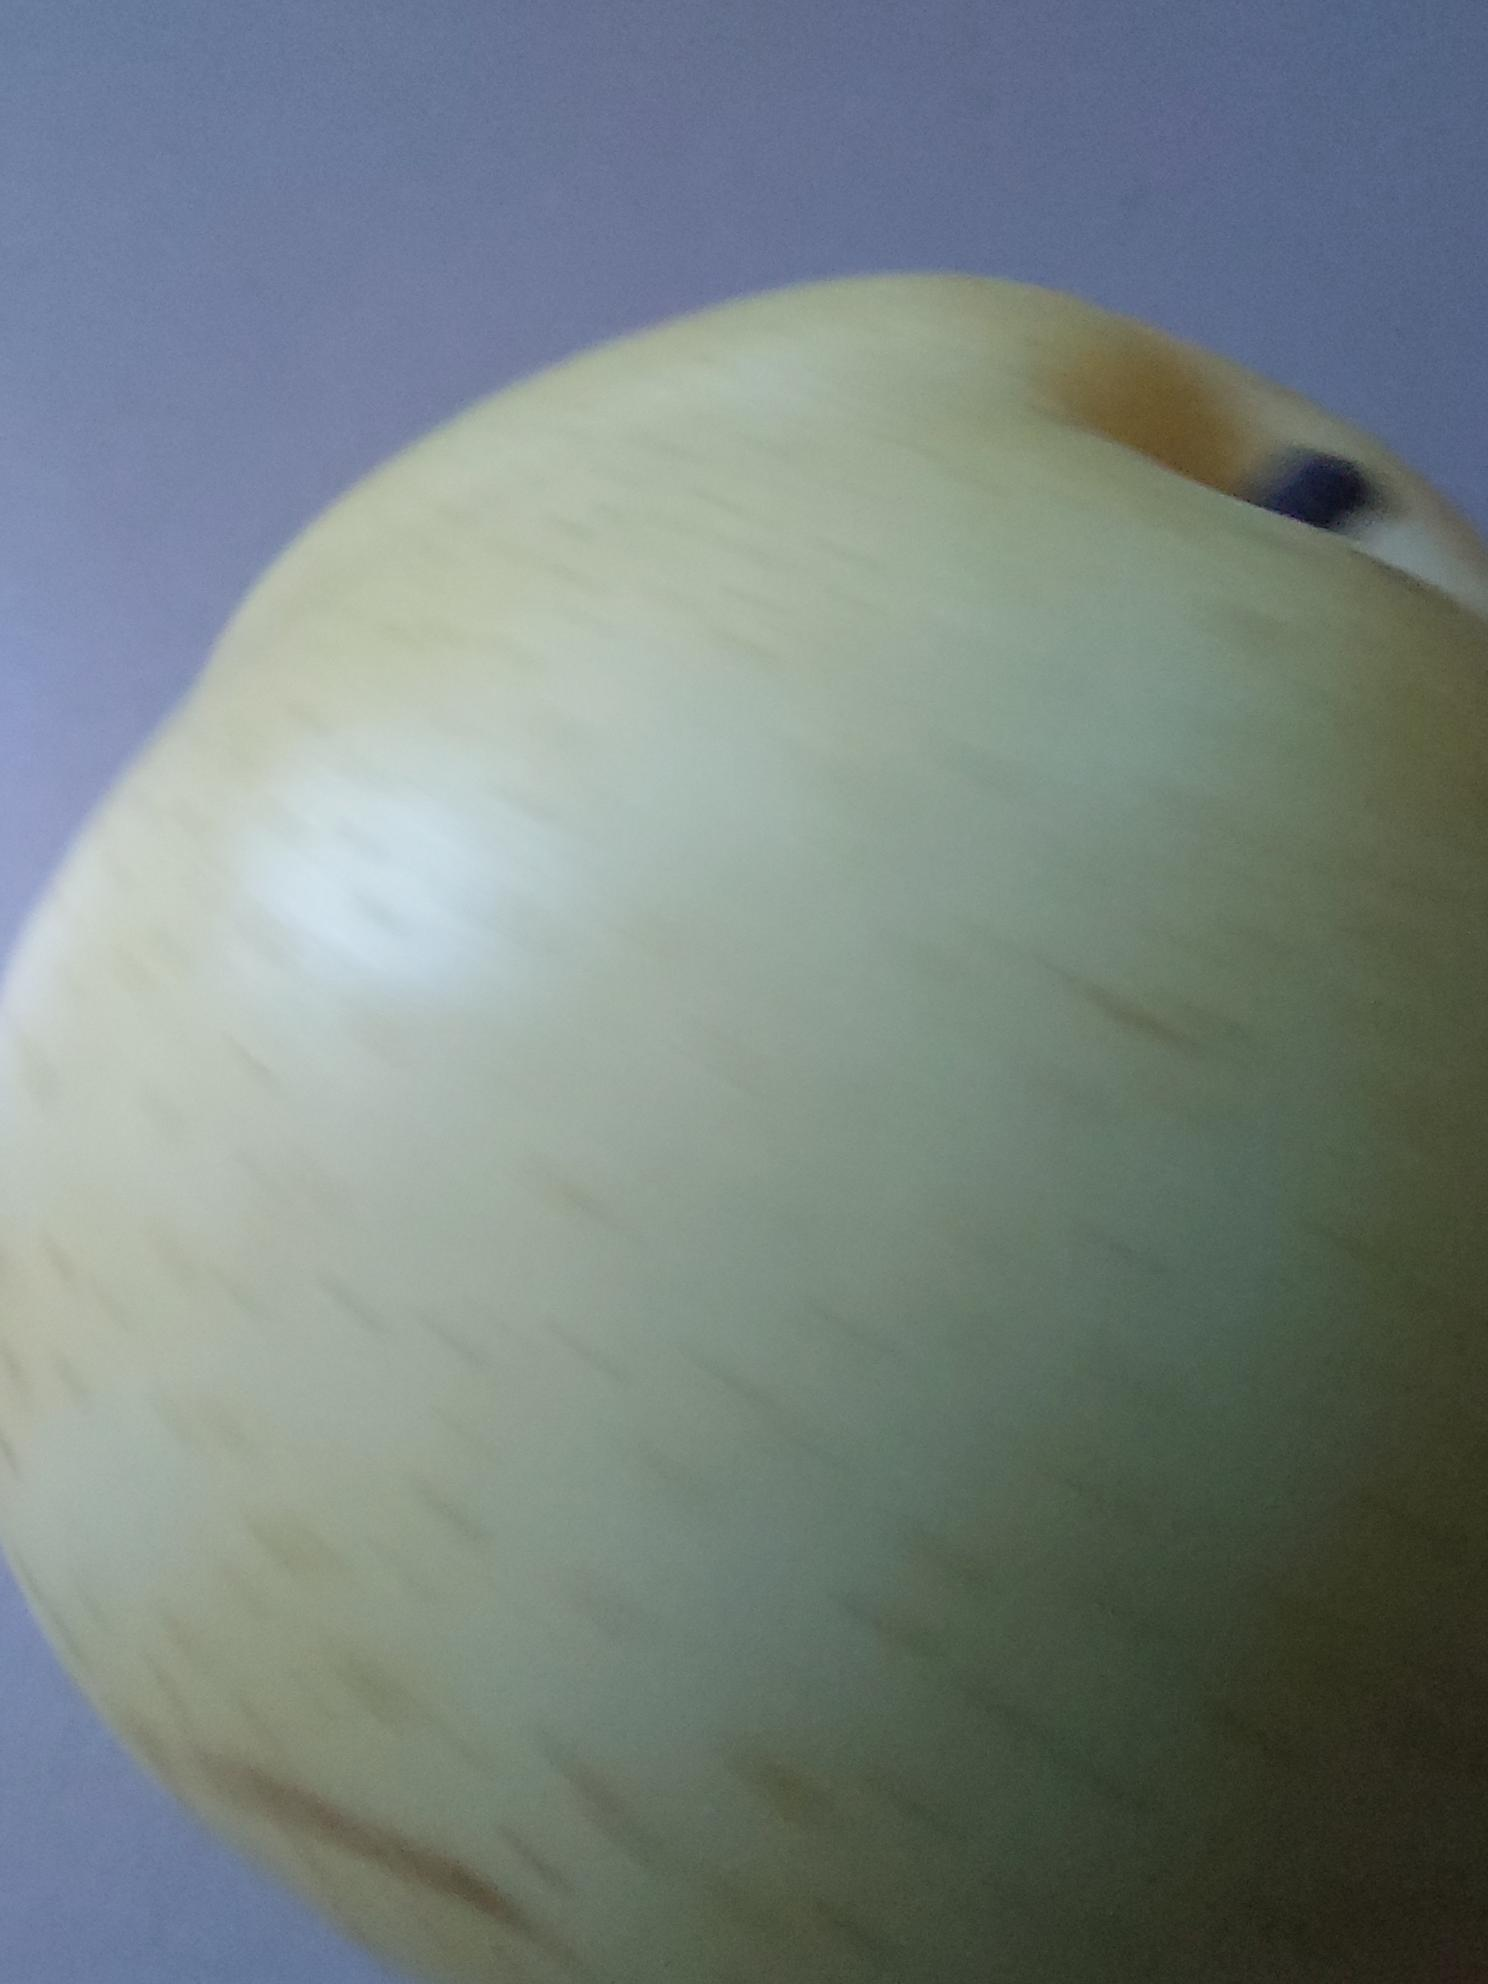Good Pear: (0, 259, 1488, 1984)
